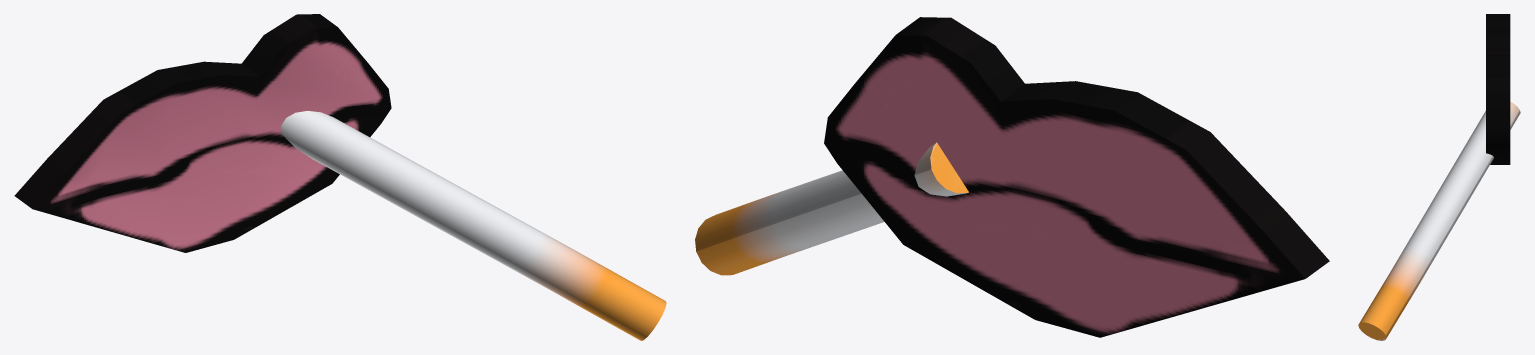
File: Fairy_mouth.fbx
3 views of the same model, side by side, from view 1: azimuth 30°, elevation 25°; view 2: azimuth 150°, elevation 25°; view 3: azimuth 270°, elevation 25° (orthographic). The views are drawn at different scales.
Parts seen in each view (by area): view 1: elf_mouth; view 2: elf_mouth; view 3: elf_mouth.
Boxes of the visible parts, bbox=[...] form: elf_mouth: bbox=[14, 14, 666, 340]; elf_mouth: bbox=[695, 17, 1329, 337]; elf_mouth: bbox=[1358, 14, 1520, 340].
Bounding box in the file's own units: 25.76 × 13.89 × 9.8.
1 material, 1 textured.
